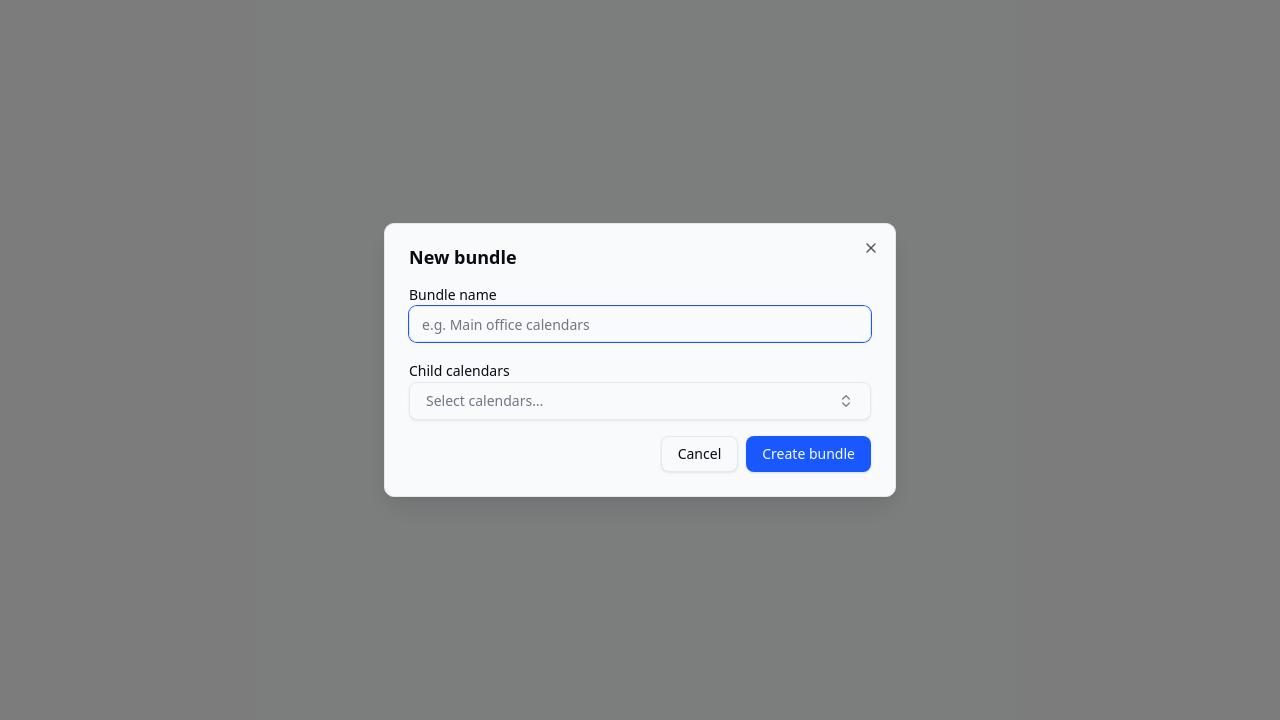
CreateBundleDialog › validates that at least one calendar must be selected
Type "Test Bundle" into the field with placeholder "e.g. Main office calendars". click: (640, 324)
box: [409,306,871,342]
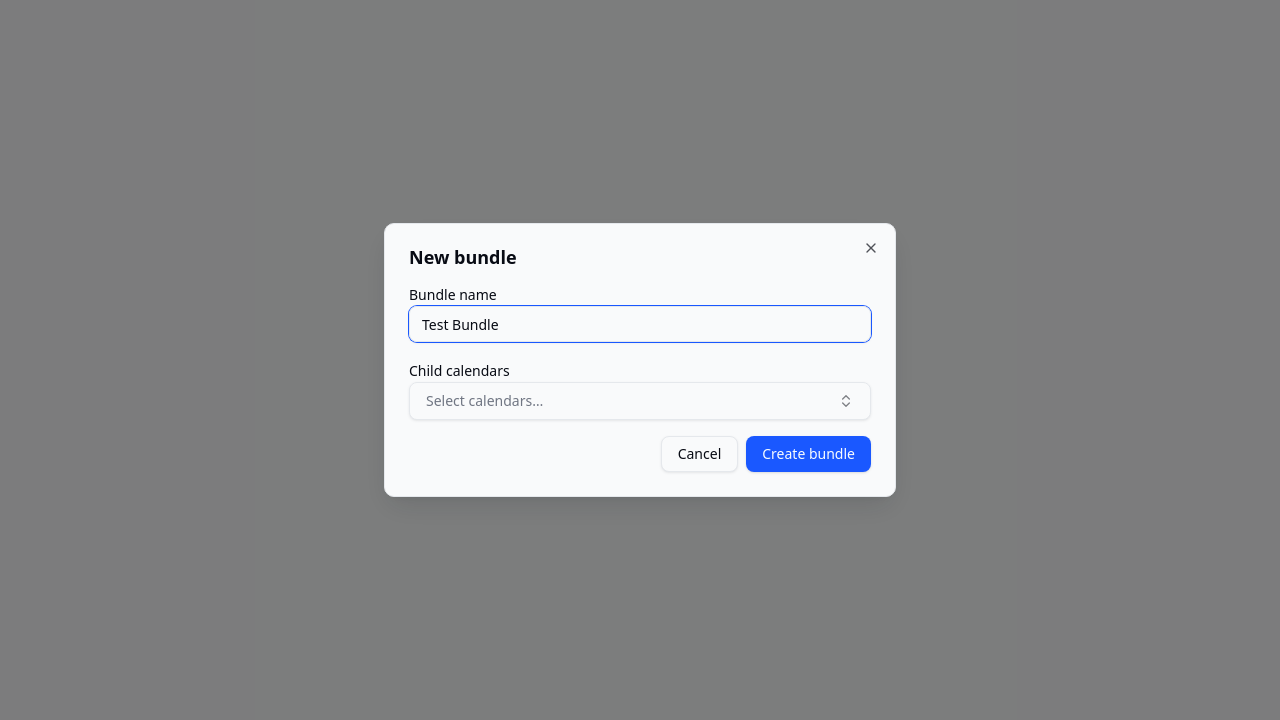
Click the button with test id "create-bundle-submit". click: (809, 454)
box: [746,436,871,472]
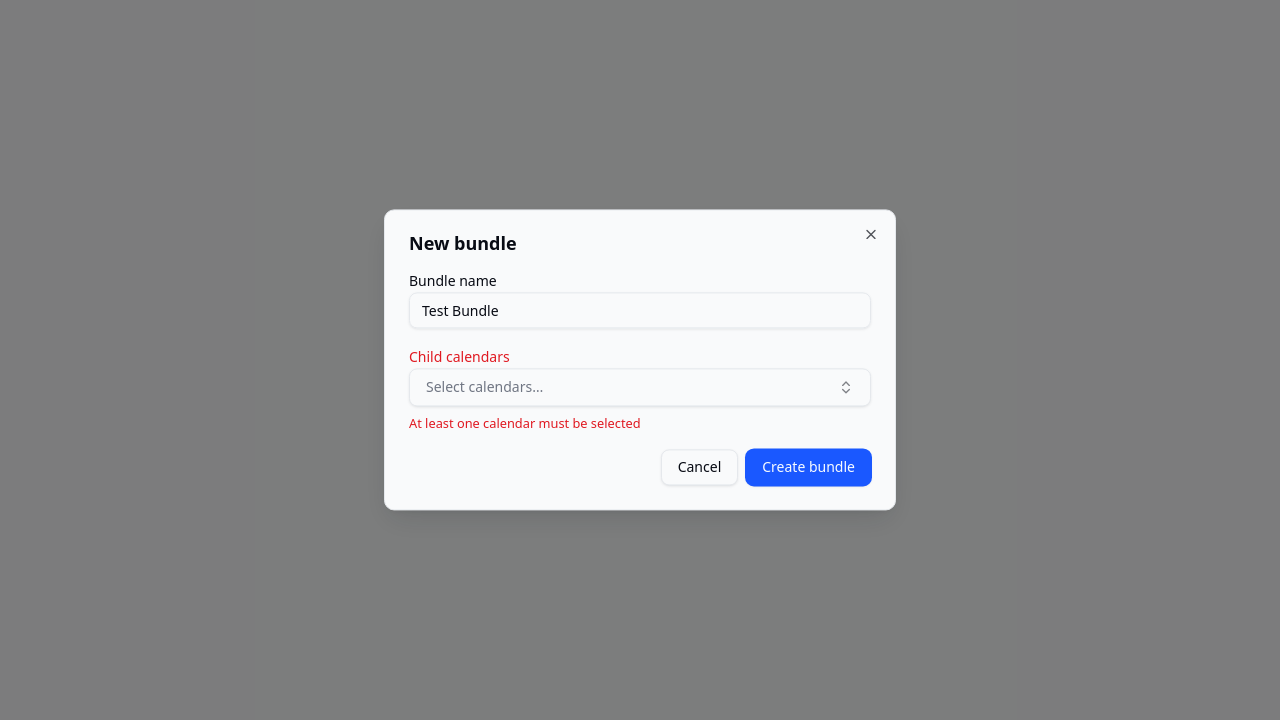
Expected: the text "At least one calendar must be selected" is shown, [409,414,641,432]
